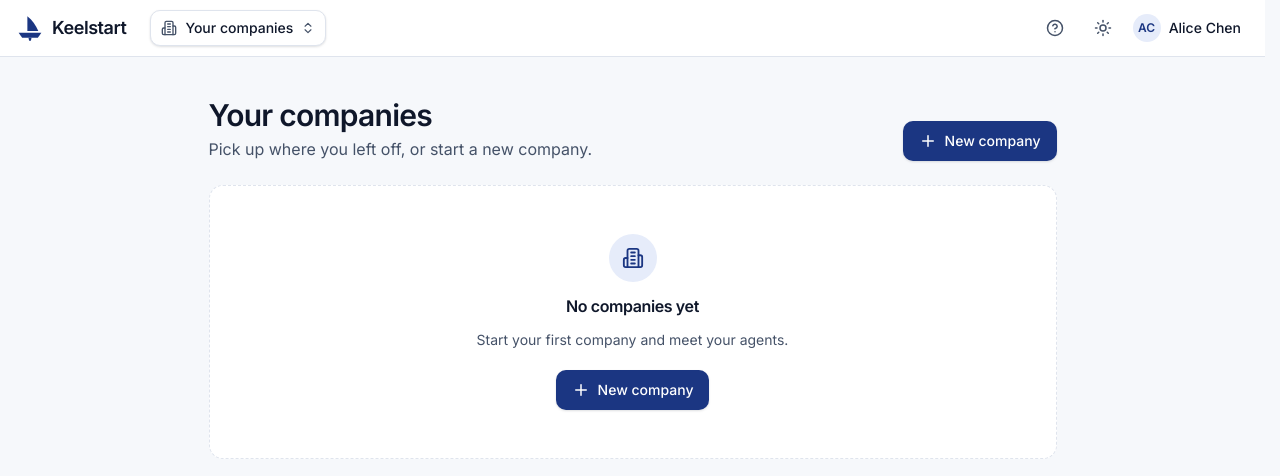
Test case: banners and help (ADR-0035, ADR-0038) › offers Contact support only when a support email is configured
Click the button named "Help" at (1055, 28), box top-left (1035, 8), bottom-right (1075, 48)
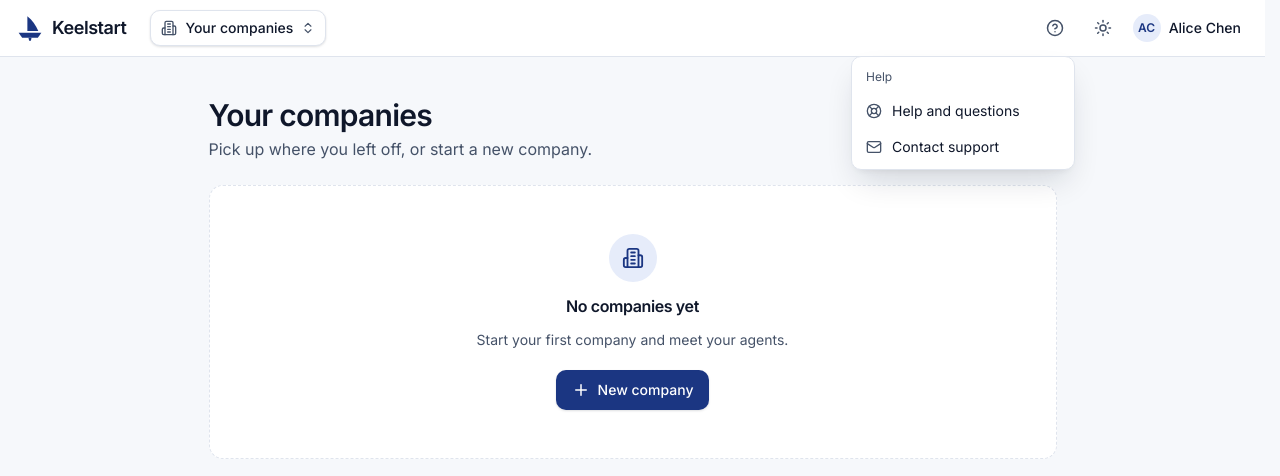
Result: the menu item "Contact support" is shown at top-left (866, 138), bottom-right (999, 155)
Result: the menu item "Help and questions" is shown at top-left (866, 102), bottom-right (1020, 119)
